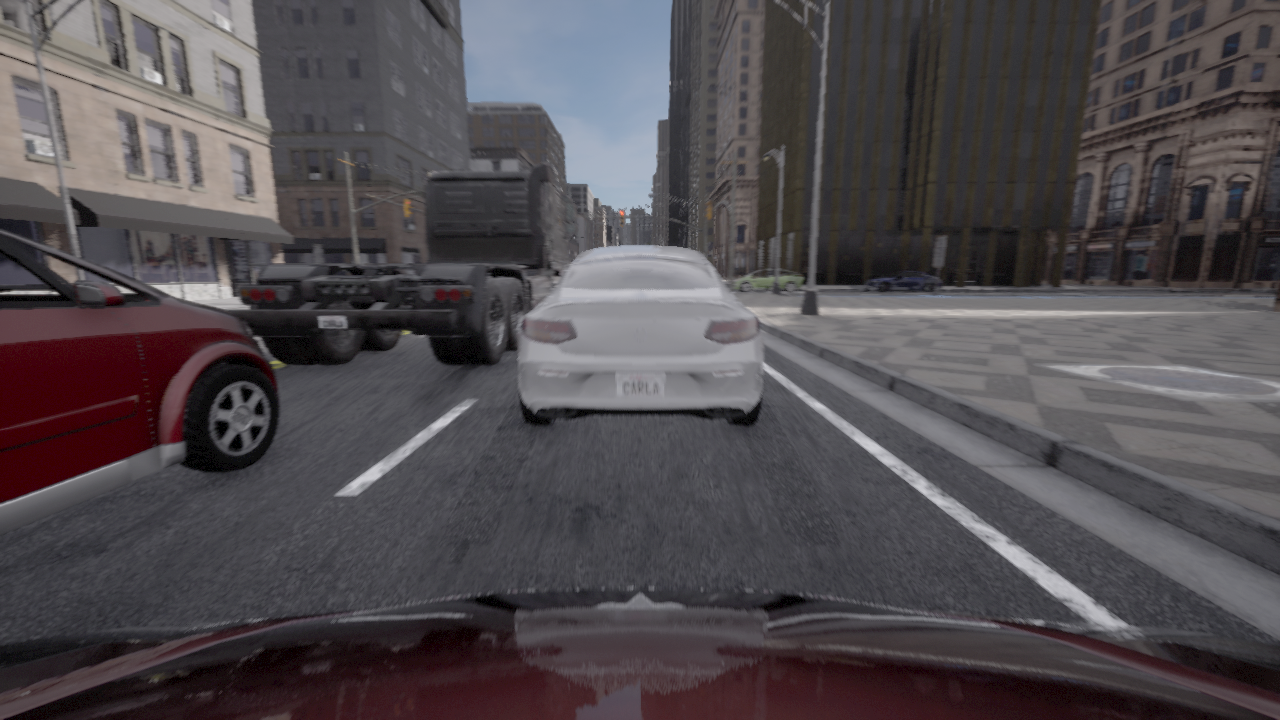cyclist: (0, 588, 1279, 719), (226, 163, 576, 365), (518, 246, 762, 425), (863, 270, 941, 292), (733, 269, 802, 292)
